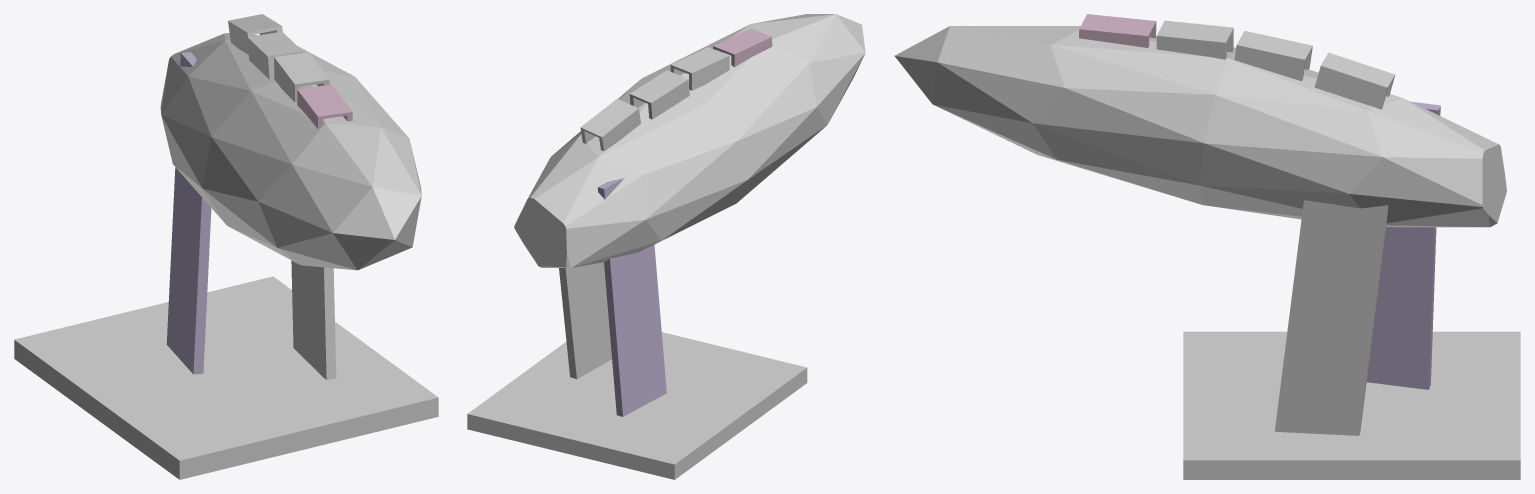
The model's file is space_shipgun_center.fbx.
The picture shows the model from 3 angles, left to right: view 1: azimuth 30°, elevation 25°; view 2: azimuth 150°, elevation 25°; view 3: azimuth 270°, elevation 25°; orthographic projection. The views are drawn at different scales.
Parts seen in each view (by area): view 1: surface, gun, legs, legs_001, top, top_002, top_001, top_003; view 2: gun, surface, legs, legs_001, top_003, top_001, top, top_002; view 3: gun, surface, legs_001, legs, top_003, top_001, top, top_002.
Part boxes in pixels (left/top/right/bottom): surface: left=14, top=276, right=438, bottom=479; gun: left=160, top=33, right=421, bottom=270; legs: left=166, top=52, right=211, bottom=374; legs_001: left=291, top=260, right=336, bottom=379; top: left=274, top=52, right=329, bottom=102; top_002: left=297, top=84, right=352, bottom=128; top_001: left=247, top=31, right=302, bottom=79; top_003: left=228, top=14, right=282, bottom=54; gun: left=514, top=14, right=865, bottom=267; surface: left=467, top=332, right=807, bottom=479; legs: left=597, top=178, right=666, bottom=416; legs_001: left=559, top=262, right=611, bottom=379; top_003: left=580, top=98, right=640, bottom=151; top_001: left=629, top=70, right=689, bottom=119; top: left=670, top=47, right=729, bottom=90; top_002: left=713, top=28, right=772, bottom=67; gun: left=894, top=26, right=1506, bottom=227; surface: left=1183, top=331, right=1520, bottom=479; legs_001: left=1274, top=200, right=1388, bottom=435; legs: left=1366, top=101, right=1440, bottom=389; top_003: left=1314, top=52, right=1395, bottom=109; top_001: left=1234, top=31, right=1312, bottom=81; top: left=1156, top=20, right=1233, bottom=59; top_002: left=1079, top=14, right=1156, bottom=47.
Size of the model in its own units: 1.83 by 2.54 by 3.76.
